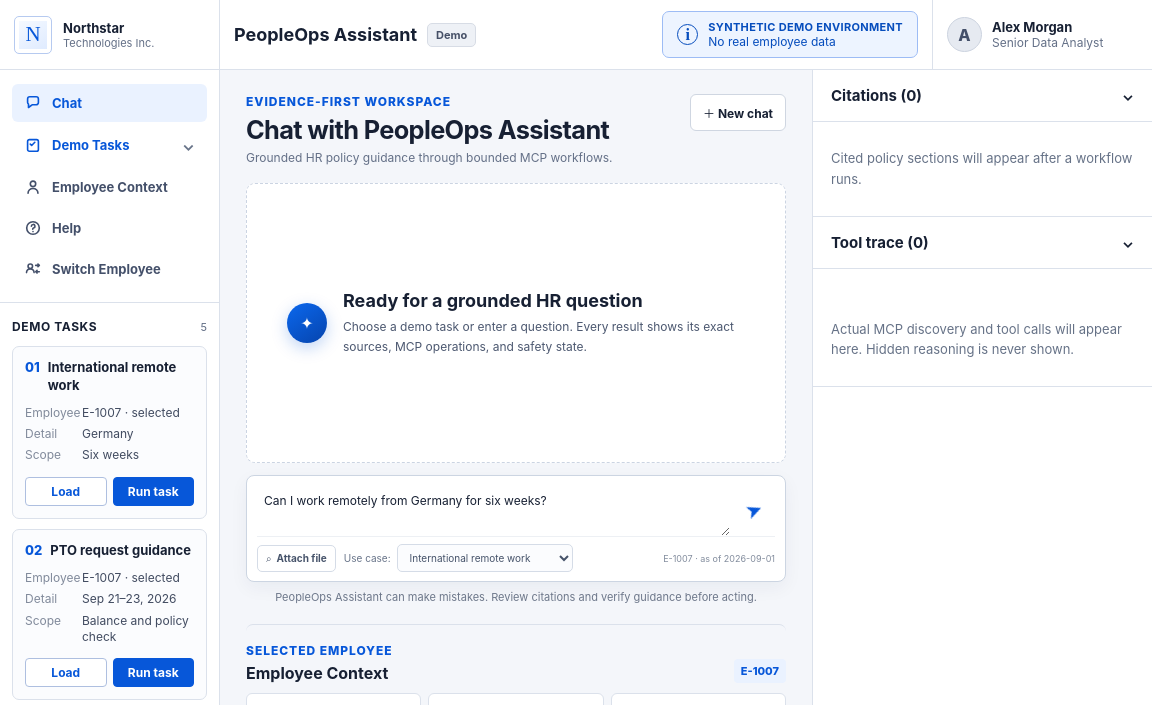
PeopleOps Assistant Phase 8 evidence-first interface › turns a provider response into scannable guidance and progressive verified detail
Click the button "Send question ➤". click: (754, 510)
box: [732,488,776,532]
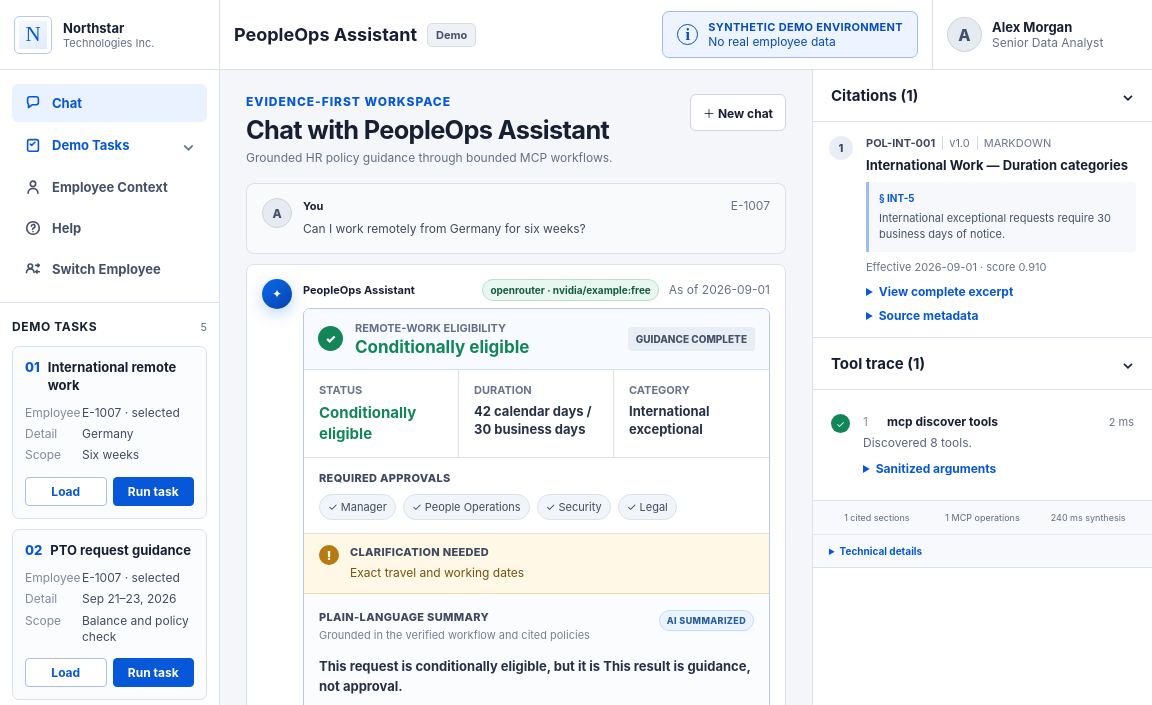
Check: the heading "Plain-language summary" is shown, box [319,610,489,624]
Check: the text "AI summarized" is shown, box [659,610,754,631]
